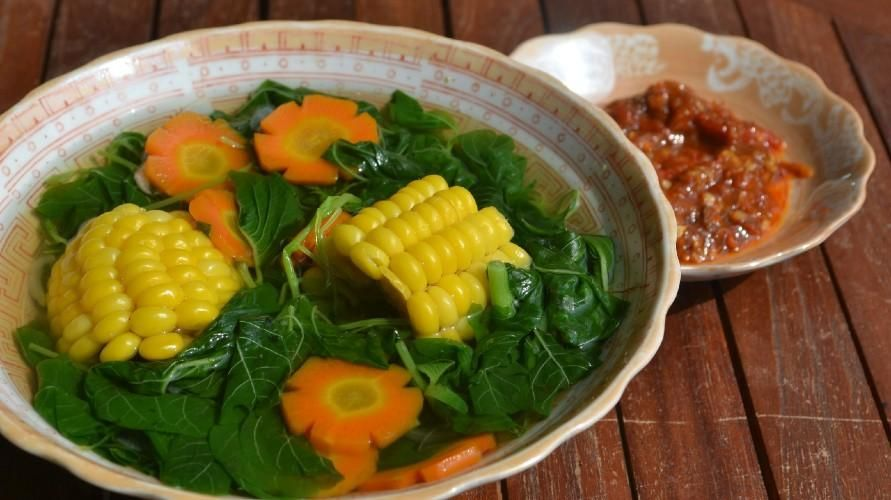Sayur Bayam: (46, 75, 671, 495)
